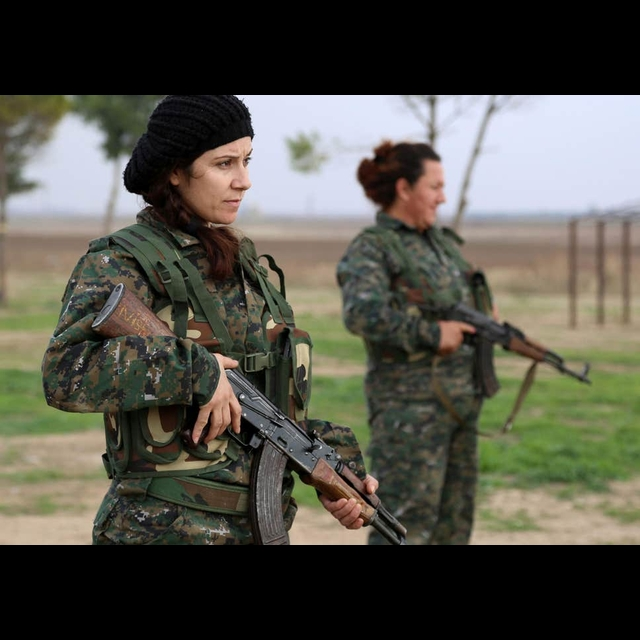AK47: (89, 284, 411, 546), (397, 281, 593, 397)
